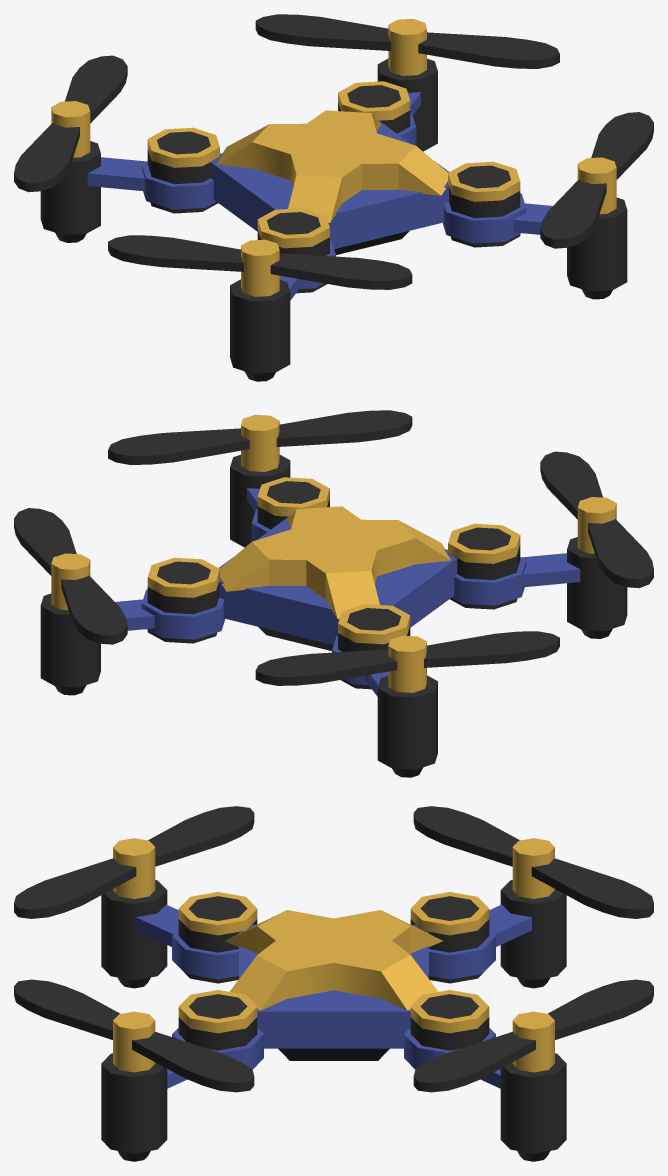
File: Drone_01.fbx
The picture shows the model from 3 angles, top to bottom: view 1: azimuth 30°, elevation 25°; view 2: azimuth 150°, elevation 25°; view 3: azimuth 270°, elevation 25°; orthographic projection. The views are drawn at different scales.
Parts seen in each view (by area): view 1: Drone_01; view 2: Drone_01; view 3: Drone_01.
Part boxes in pixels (x1,y1,x2,y2): Drone_01: (14,14,653,381); Drone_01: (14,410,653,777); Drone_01: (14,806,653,1161).
Size of the model in its own units: 0.4522 by 0.1031 by 0.4415.
